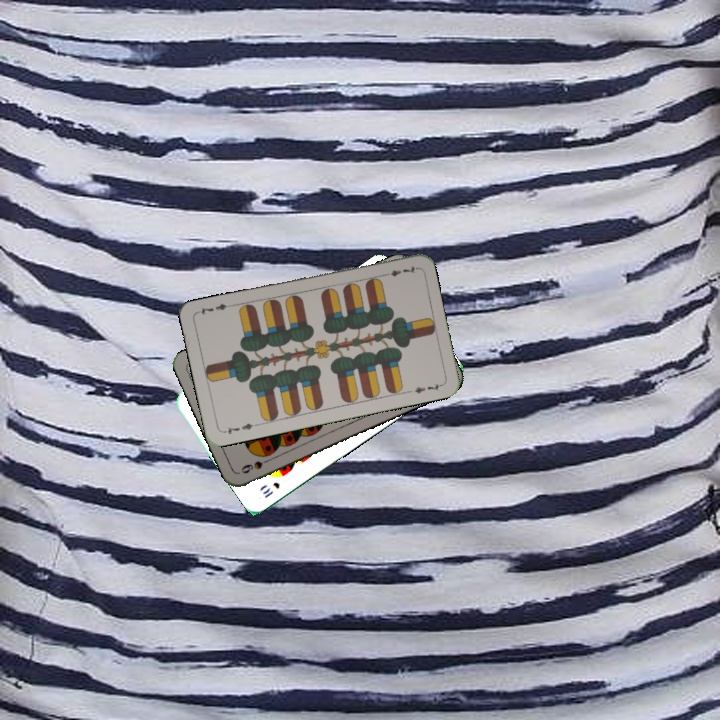E7: (219, 419, 260, 437), (378, 262, 419, 279)
S10: (258, 478, 282, 500)
S9: (236, 453, 275, 476)
